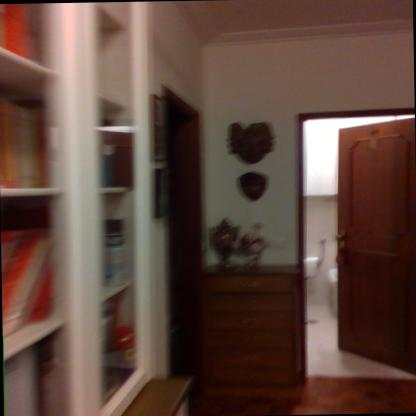semi: (289, 106, 415, 386)
